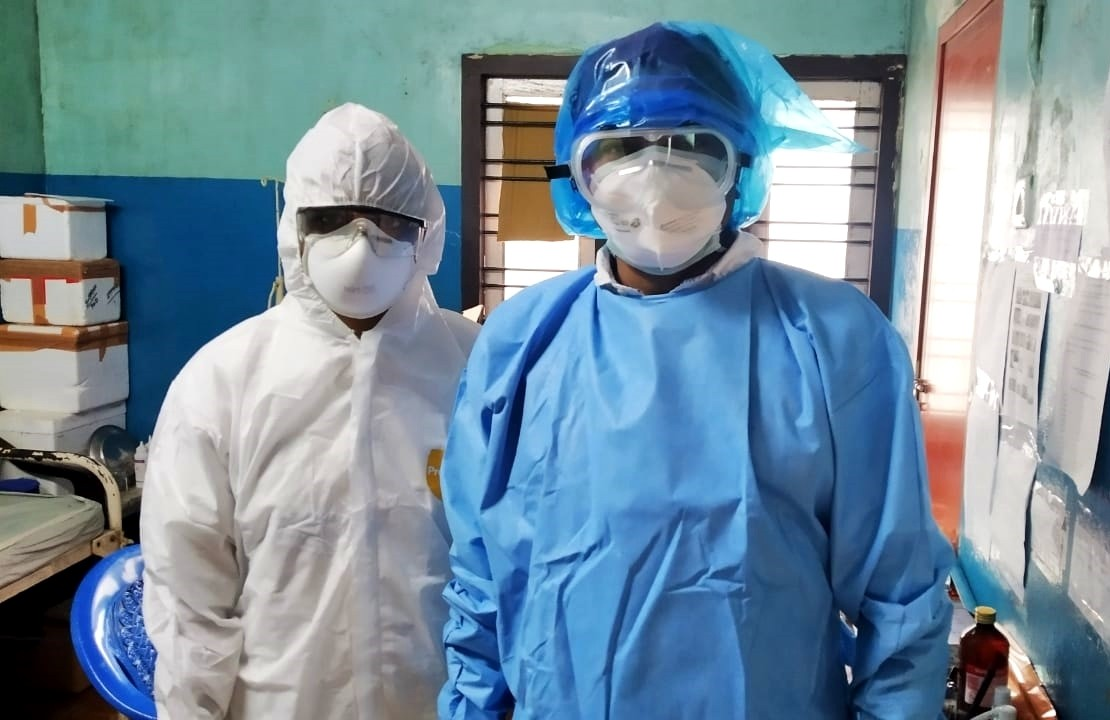Coverall: (434, 254, 958, 720), (135, 96, 497, 720)
Goggles: (589, 136, 730, 271), (566, 123, 742, 210), (300, 206, 428, 259)
with_mask: (312, 210, 413, 318)
